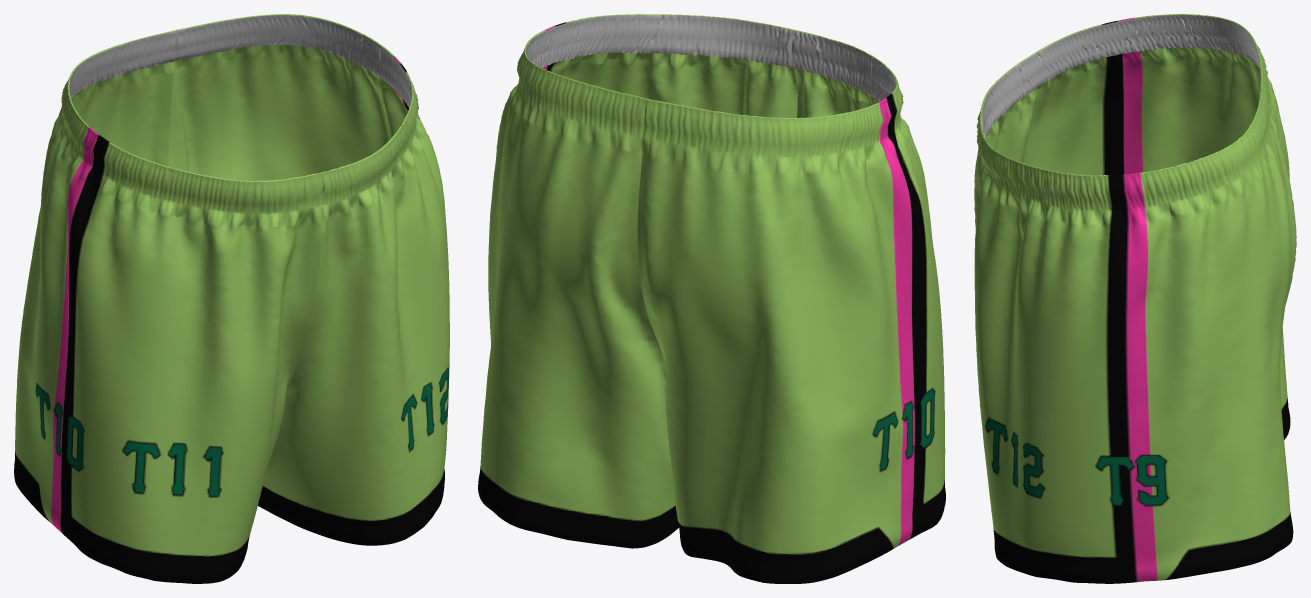
Rendered from 321821-soccer-shorts.glb.
The picture shows the model from 3 angles, left to right: view 1: azimuth 30°, elevation 25°; view 2: azimuth 150°, elevation 25°; view 3: azimuth 270°, elevation 25°; orthographic projection. The views are drawn at different scales.
Parts seen in each view (by area): view 1: 321821; view 2: 321821; view 3: 321821.
Boxes of the visible parts, x1,y1,x2,y2 form: 321821: [14, 14, 449, 583]; 321821: [478, 14, 945, 583]; 321821: [974, 14, 1296, 583].
Bounding box in the file's own units: 0.6371 × 0.7281 × 0.4855.
2 materials, 1 textured.
